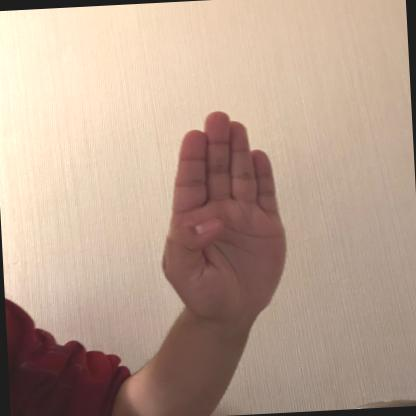B: (148, 104, 292, 320)
